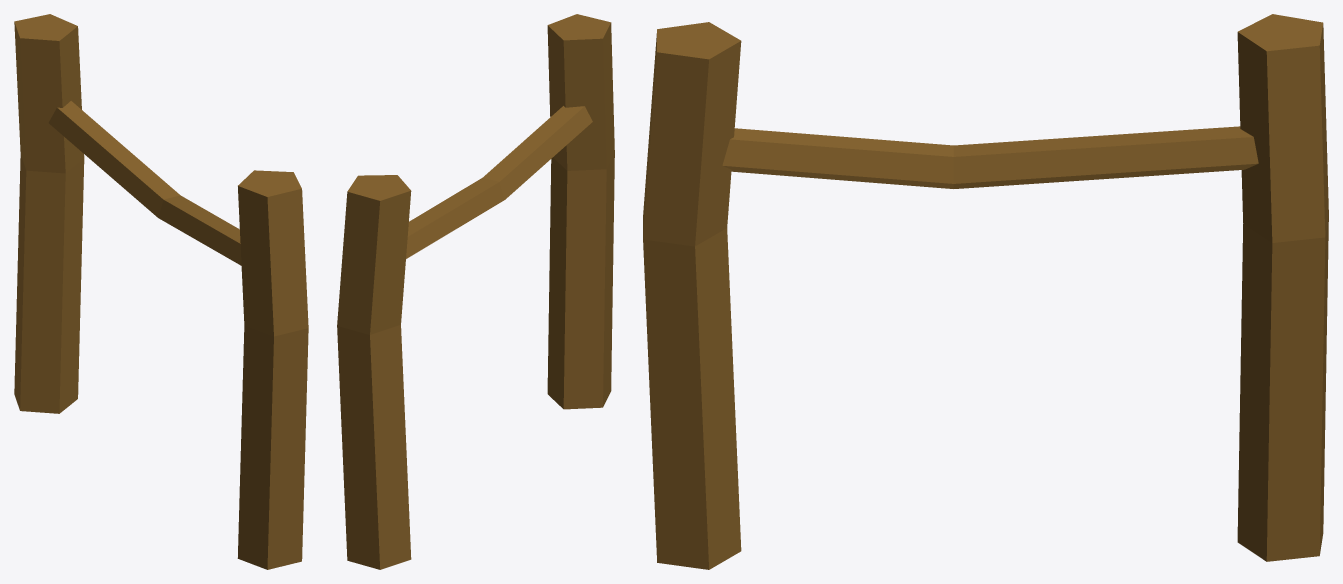
The model's file is Fence.fbx.
3 renders of one model, left to right at view 1: azimuth 30°, elevation 25°; view 2: azimuth 150°, elevation 25°; view 3: azimuth 270°, elevation 25°, orthographic. The views are drawn at different scales.
Parts seen in each view (by area): view 1: Fence; view 2: Fence; view 3: Fence.
Boxes of the visible parts, bbox=[...] form: Fence: bbox=[14, 14, 308, 569]; Fence: bbox=[337, 14, 614, 569]; Fence: bbox=[643, 14, 1328, 569].
Bounding box in the file's own units: 49.19 × 253 × 308.
